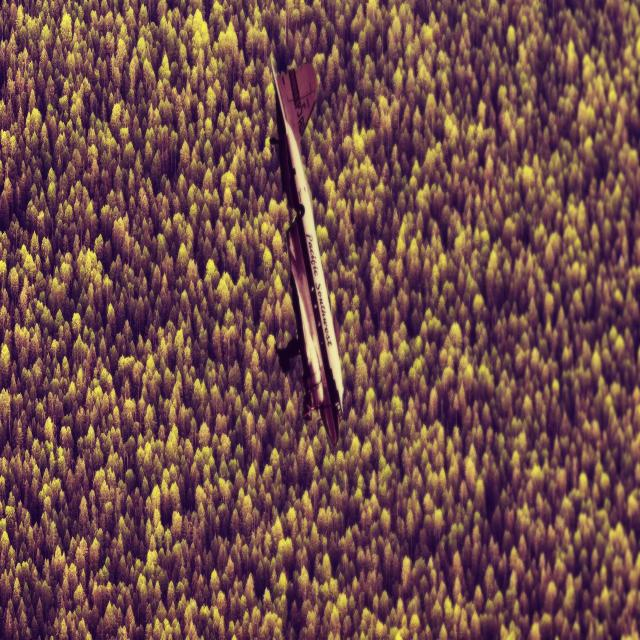airplane: (268, 54, 345, 448)
